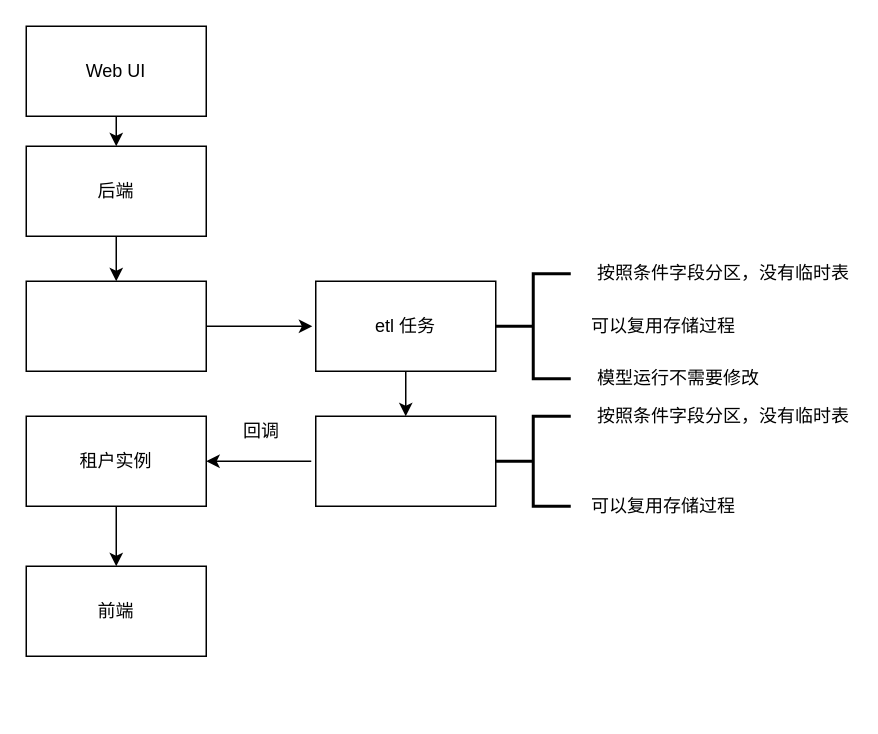
This 878x734 diagram has some shape labels left out. The centre of each missing label's shape, as x and y in pixels:
model 任务: pixel 405 460
任务中心: pixel 115 325
